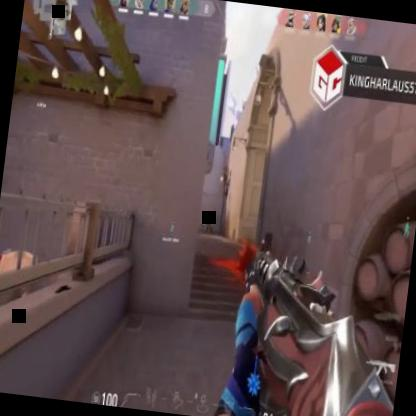enemy: (204, 209, 214, 234)
enemy_head: (209, 209, 213, 214)
